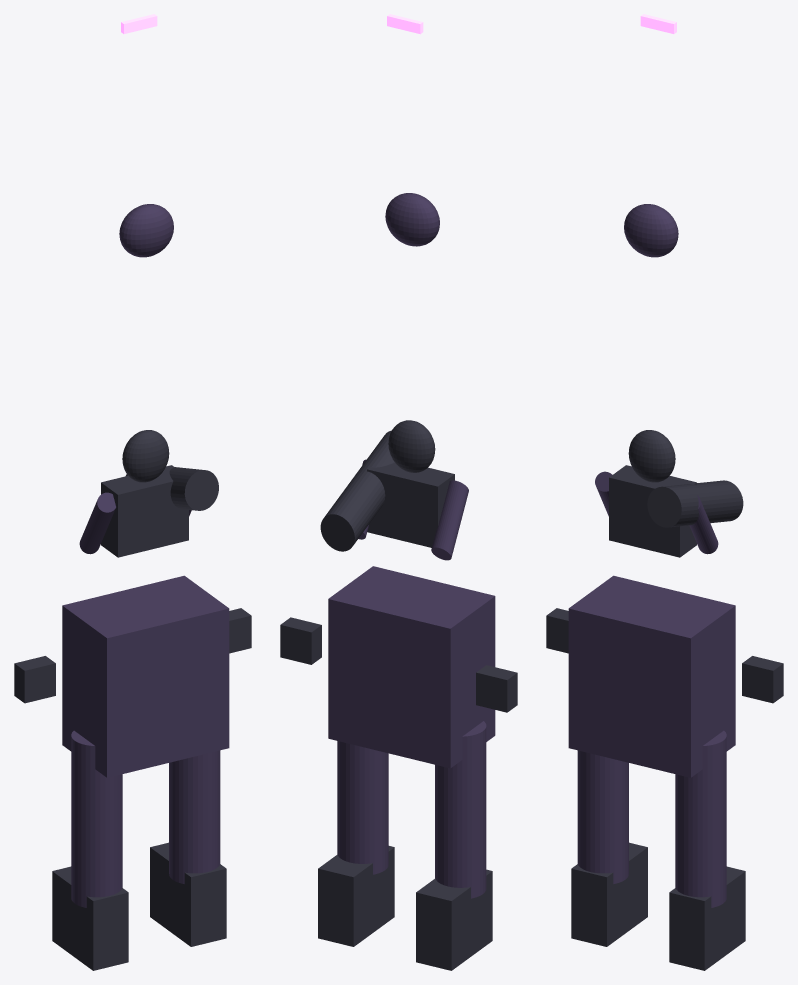
File: CH_PunctureLancer_LOD1.glb
3 renders of one model, left to right at view 1: azimuth 30°, elevation 25°; view 2: azimuth 150°, elevation 25°; view 3: azimuth 330°, elevation 25°, orthographic.
Parts seen in each view (by area): view 1: Cube.004, Cylinder, Cylinder.001, Cube, Cube.001, Cube.005, Sphere.001, Sphere, Cylinder.004, Cube.002, Cylinder.002, Cube.003; view 2: Cube.004, Cylinder, Cylinder.001, Cube, Cube.001, Cube.005, Cylinder.004, Sphere.001, Sphere, Cube.002, Cube.003, Cylinder.002; view 3: Cube.004, Cylinder.001, Cylinder, Cube.001, Cube, Cube.005, Cylinder.004, Sphere.001, Sphere, Cube.003, Cube.002, Cylinder.003.
Boxes of the visible parts, left/top/right/bottom form: Cube.004: left=62, top=575, right=229, bottom=777; Cylinder: left=71, top=730, right=122, bottom=907; Cylinder.001: left=169, top=750, right=220, bottom=883; Cube: left=52, top=866, right=128, bottom=970; Cube.001: left=150, top=842, right=226, bottom=946; Cube.005: left=101, top=465, right=188, bottom=557; Sphere.001: left=119, top=204, right=173, bottom=257; Sphere: left=122, top=430, right=169, bottom=482; Cylinder.004: left=126, top=467, right=218, bottom=510; Cube.002: left=14, top=656, right=55, bottom=703; Cylinder.002: left=79, top=492, right=116, bottom=554; Cube.003: left=229, top=608, right=251, bottom=653; Cube.004: left=328, top=566, right=495, bottom=768; Cylinder: left=435, top=721, right=486, bottom=898; Cylinder.001: left=337, top=741, right=388, bottom=874; Cube: left=416, top=869, right=492, bottom=970; Cube.001: left=318, top=846, right=394, bottom=946; Cube.005: left=367, top=462, right=454, bottom=547; Cylinder.004: left=320, top=430, right=394, bottom=551; Sphere.001: left=385, top=193, right=439, bottom=246; Sphere: left=388, top=420, right=435, bottom=472; Cube.002: left=476, top=665, right=517, bottom=712; Cube.003: left=280, top=617, right=321, bottom=664; Cylinder.002: left=431, top=480, right=468, bottom=560; Cube.004: left=568, top=575, right=735, bottom=777; Cylinder.001: left=675, top=730, right=726, bottom=907; Cylinder: left=577, top=750, right=628, bottom=883; Cube.001: left=669, top=866, right=745, bottom=970; Cube: left=571, top=842, right=647, bottom=946; Cube.005: left=609, top=465, right=696, bottom=557; Cylinder.004: left=647, top=480, right=743, bottom=527; Sphere.001: left=624, top=204, right=678, bottom=257; Sphere: left=628, top=430, right=675, bottom=482; Cube.003: left=742, top=656, right=783, bottom=703; Cube.002: left=546, top=608, right=568, bottom=653; Cylinder.003: left=689, top=495, right=718, bottom=554.
Size of what is drawn, in the model's own units: 1.02 by 3.96 by 0.4997.
